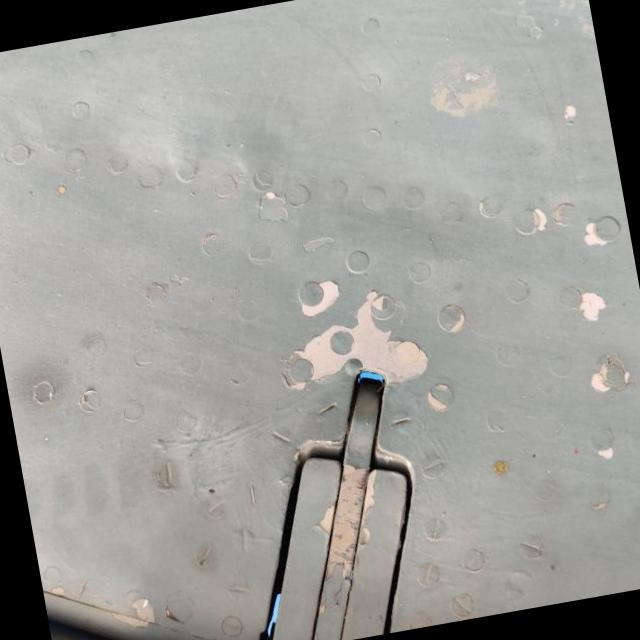Paint-off: (280, 289, 430, 393)
